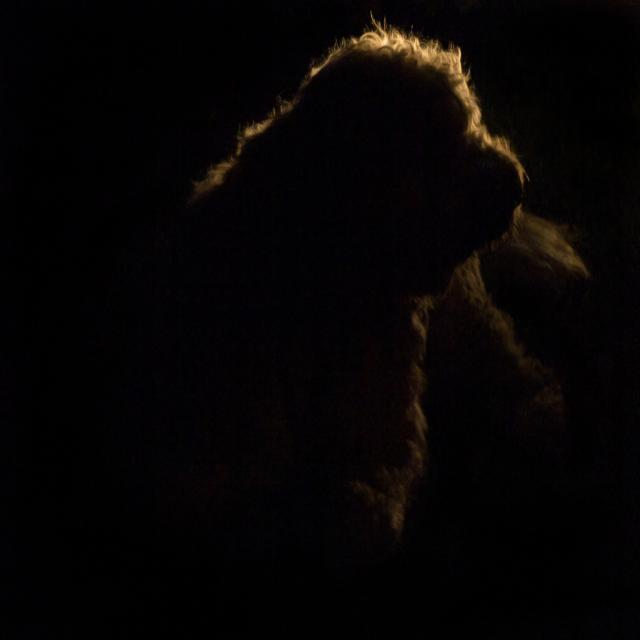Dog: (189, 54, 567, 520)
